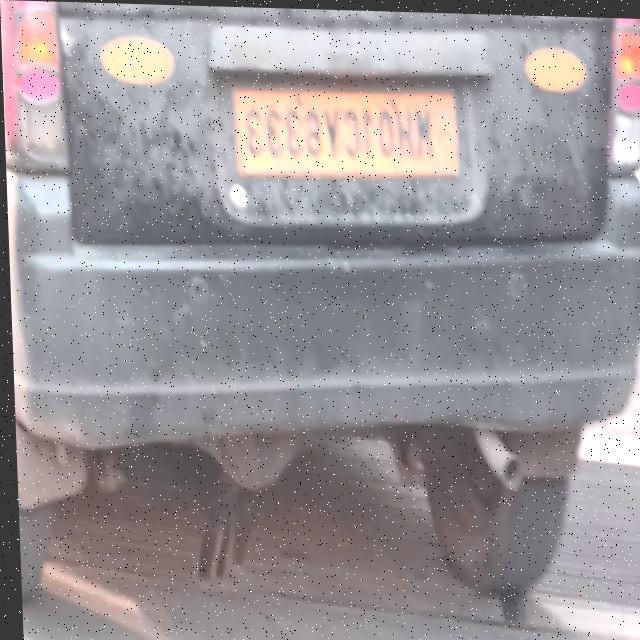plate: (229, 81, 461, 184)
